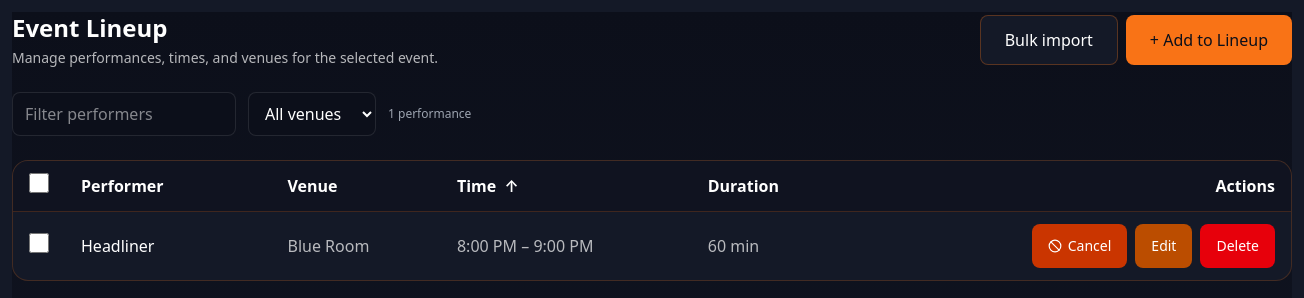
Test: LineupTab — cancel / restore toggle › cancels a set with is_cancelled: true, then restores it with is_cancelled: false
Expected: the table is shown, [13, 161, 1291, 280]
Expected: the text "Cancelled" is not shown
Click the button with aria-label "Cancel Headliner" at (1080, 246), box [1032, 224, 1127, 268]
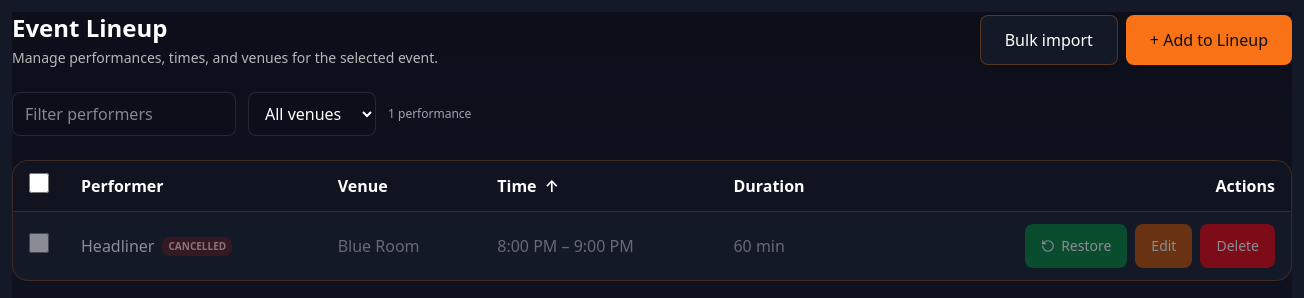
Expected: the text "Cancelled" is shown, [162, 236, 232, 256]
Expected: the button with aria-label "Restore Headliner" is shown
Click the button with aria-label "Restore Headliner" at (1076, 246), box [1025, 224, 1127, 268]
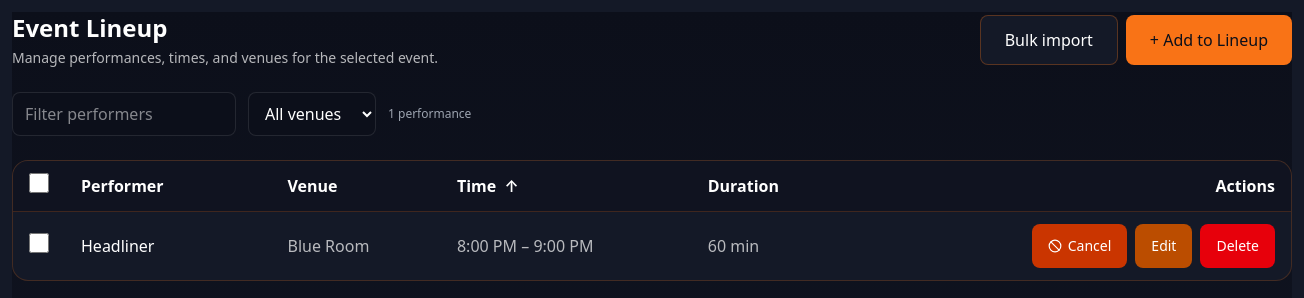
Expected: the text "Cancelled" is gone
